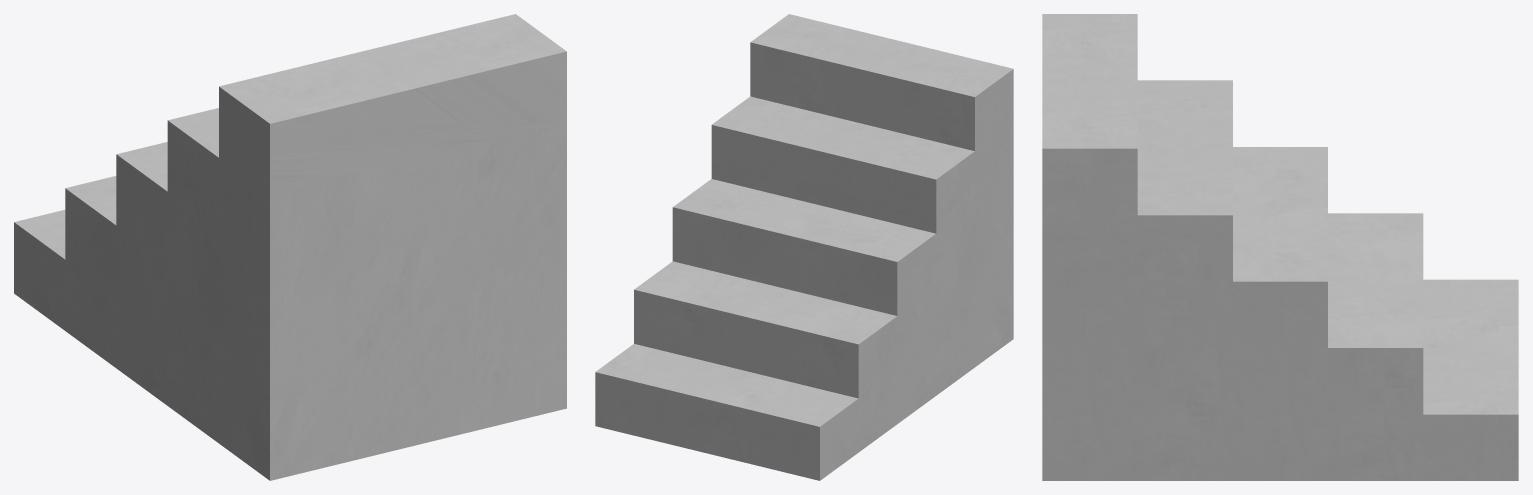
Rendered from Stairs.fbx.
3 renders of one model, left to right at view 1: azimuth 30°, elevation 25°; view 2: azimuth 150°, elevation 25°; view 3: azimuth 270°, elevation 25°, orthographic. The views are drawn at different scales.
Visible parts, largest first — view 1: pPlane1; view 2: pPlane1; view 3: pPlane1.
Part boxes in pixels (bbox=[...]): pPlane1: bbox=[14, 14, 566, 480]; pPlane1: bbox=[595, 14, 1013, 480]; pPlane1: bbox=[1042, 14, 1518, 480].
Bounding box in the file's own units: 176 × 202 × 263.
Materials: 1 (1 with a texture image).
